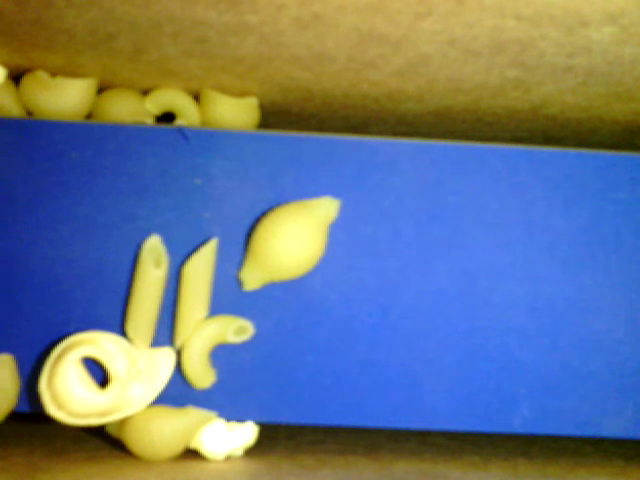elbow: (180, 314, 257, 391), (145, 82, 204, 125)
penne: (124, 231, 168, 350), (172, 236, 217, 352)
shell: (236, 195, 339, 290), (104, 403, 220, 462), (18, 69, 99, 120), (197, 86, 261, 129), (91, 86, 156, 127)
tortellini: (37, 330, 178, 425)
